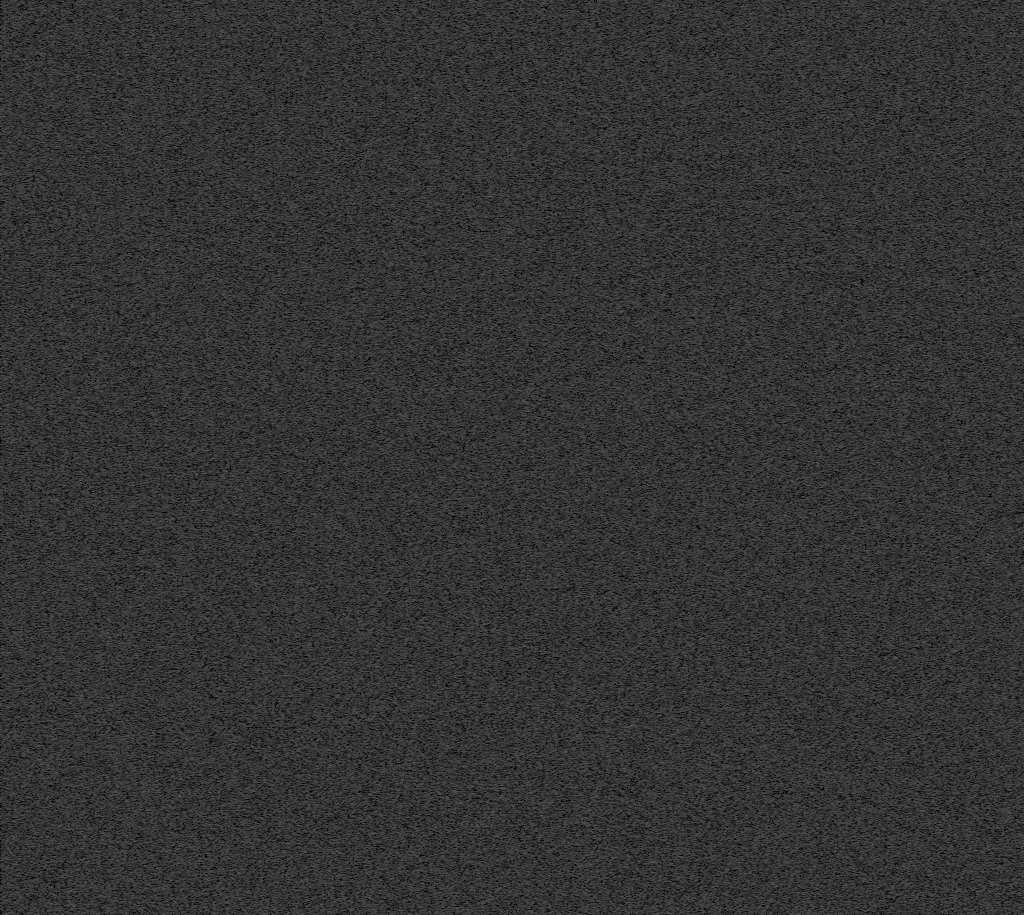wv_am: (50, 0, 60, 915), (710, 0, 717, 915), (223, 0, 229, 369), (2, 0, 7, 421), (2, 660, 9, 915), (224, 710, 229, 845), (224, 575, 229, 664), (2, 539, 7, 625), (224, 370, 229, 437), (224, 847, 229, 913), (224, 485, 229, 551), (224, 665, 229, 708), (2, 433, 7, 476), (2, 626, 7, 656), (2, 504, 7, 533), (2, 479, 7, 503), (224, 552, 229, 573), (224, 463, 229, 482), (224, 441, 229, 459), (2, 422, 7, 432), (3, 534, 6, 537)
wv_usb: (68, 700, 82, 915), (72, 54, 78, 544), (72, 545, 77, 605), (72, 649, 77, 699), (72, 11, 77, 53), (72, 611, 77, 633), (72, 634, 77, 648), (73, 606, 77, 610)
wv_wbfm: (748, 0, 779, 915), (847, 0, 872, 915)
